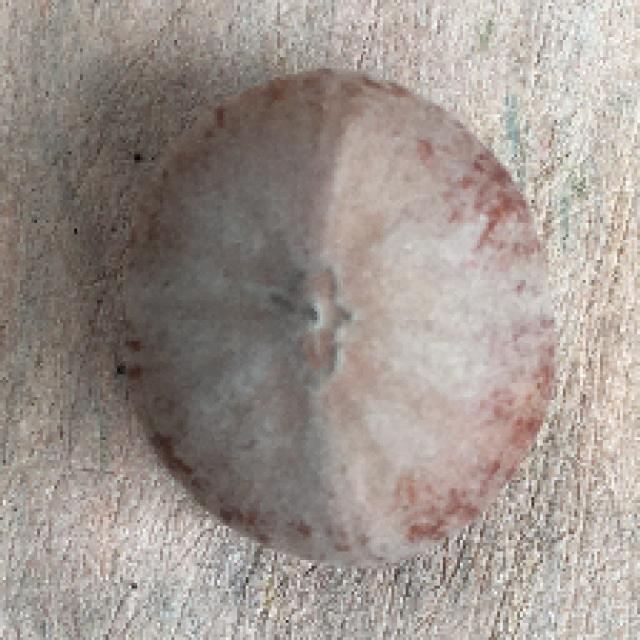qualityHazelnut: (110, 68, 562, 564)
